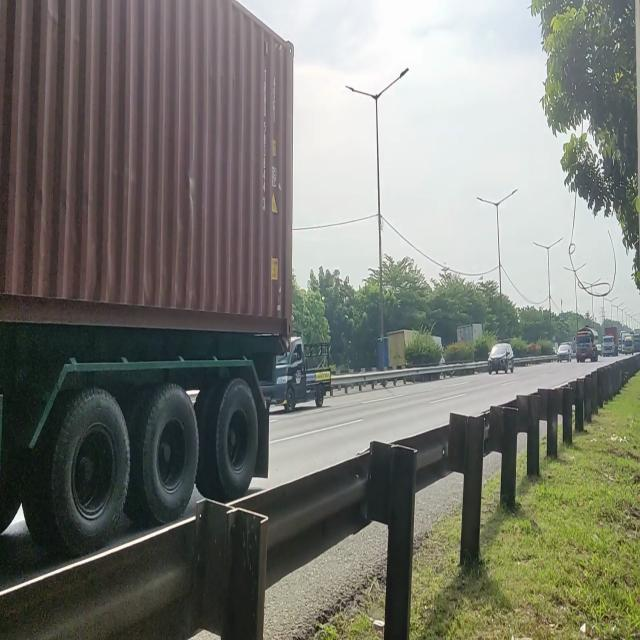Golongan I: (272, 330, 334, 420)
